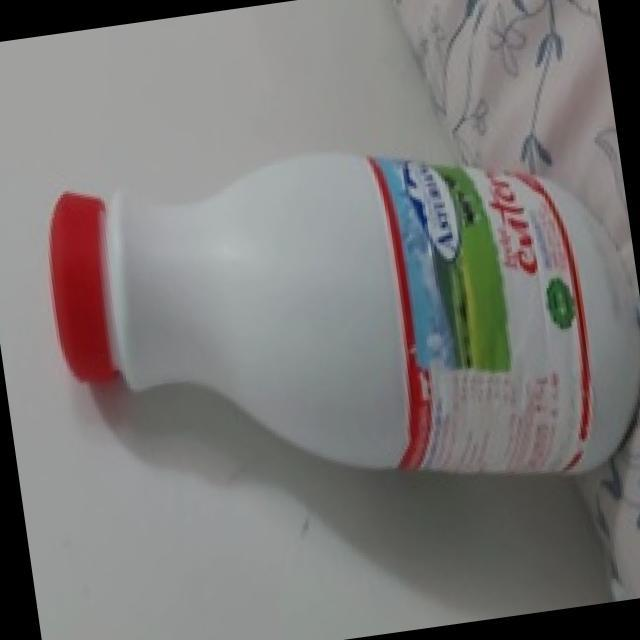good: (40, 106, 640, 527)
